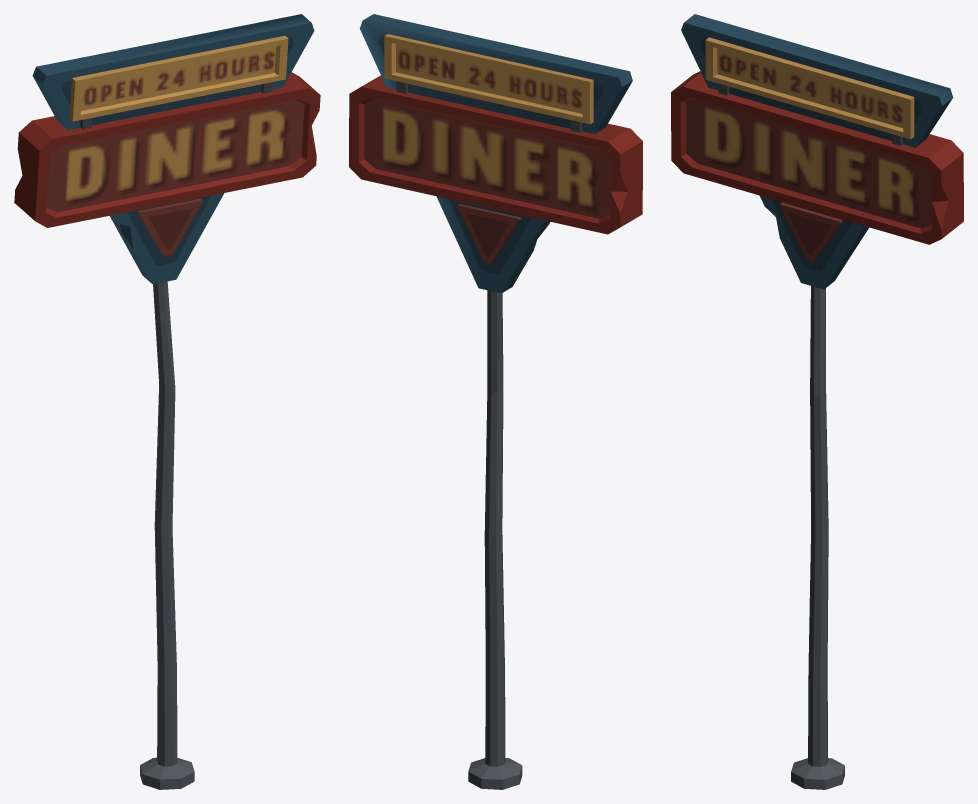
File: SM_Bld_Diner_Sign.fbx
3 renders of one model, left to right at view 1: azimuth 30°, elevation 25°; view 2: azimuth 150°, elevation 25°; view 3: azimuth 330°, elevation 25°, orthographic.
Parts seen in each view (by area): view 1: SM_Bld_Diner_Sign; view 2: SM_Bld_Diner_Sign; view 3: SM_Bld_Diner_Sign.
Part boxes in pixels (x1,y1,x2,y2): SM_Bld_Diner_Sign: [14, 14, 320, 789]; SM_Bld_Diner_Sign: [349, 14, 642, 789]; SM_Bld_Diner_Sign: [671, 14, 963, 789].
Bounding box in the file's own units: 139 × 352 × 24.58.
1 material, 1 textured.
